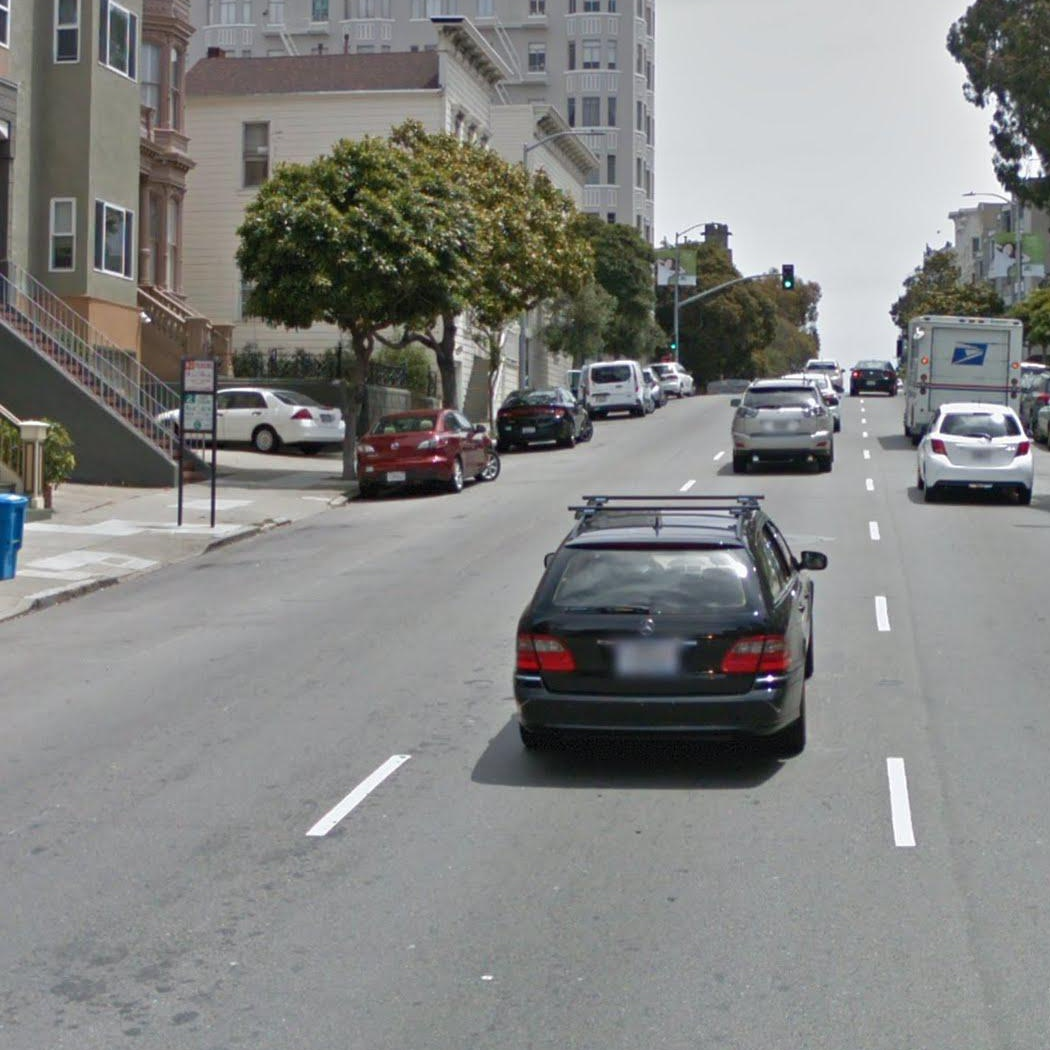2 Hour Parking: (182, 393, 215, 432)
No Parking: (183, 359, 215, 392)
